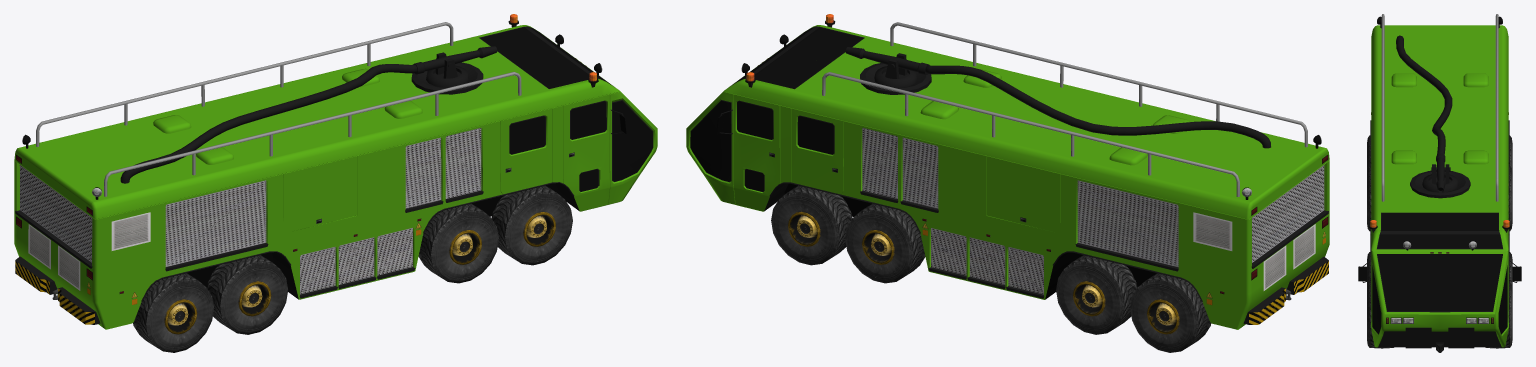
File: emergency.FBX
3 views of the same model, side by side, from view 1: azimuth 30°, elevation 25°; view 2: azimuth 150°, elevation 25°; view 3: azimuth 270°, elevation 25° (orthographic). The views are drawn at different scales.
Parts seen in each view (by area): view 1: Object001, Cylinder005, Cylinder008, Cylinder007, Cylinder006; view 2: Object001, Cylinder009, Cylinder011, Cylinder010, Cylinder012; view 3: Object001, Cylinder008, Cylinder009, Cylinder005, Cylinder011.
Part boxes in pixels (box(x1,y1,x2,y2)): Object001: box(14, 14, 657, 329); Cylinder005: box(207, 255, 287, 334); Cylinder008: box(491, 185, 572, 265); Cylinder007: box(418, 203, 498, 283); Cylinder006: box(133, 273, 213, 352); Object001: box(686, 14, 1329, 329); Cylinder009: box(771, 185, 852, 265); Cylinder011: box(1056, 255, 1137, 334); Cylinder010: box(845, 203, 925, 283); Cylinder012: box(1130, 273, 1211, 352); Object001: box(1358, 14, 1521, 352); Cylinder008: box(1367, 282, 1393, 348); Cylinder009: box(1485, 282, 1512, 348); Cylinder005: box(1367, 165, 1371, 231); Cylinder011: box(1508, 165, 1512, 230).
Size of the model in its own units: 74.56 by 24.02 by 21.56.
